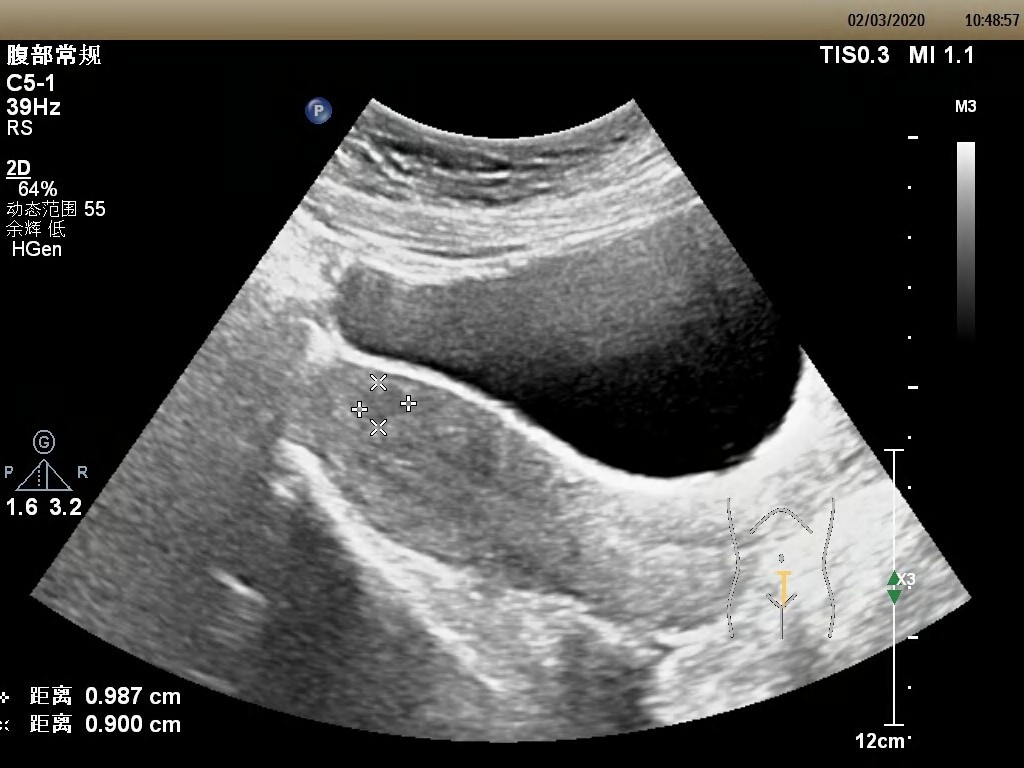肌瘤: (355, 383, 405, 422)
